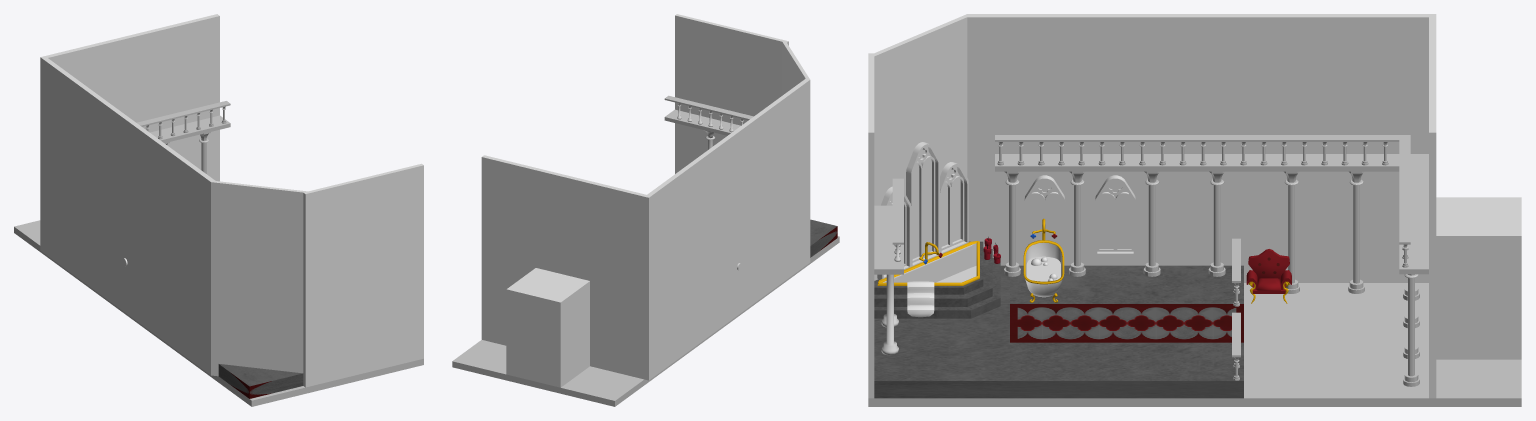
File: BloodBathSetV2.fbx
3 views of the same model, side by side, from view 1: azimuth 30°, elevation 25°; view 2: azimuth 150°, elevation 25°; view 3: azimuth 270°, elevation 25° (orthographic). The views are drawn at different scales.
Parts seen in each view (by area): view 1: Plane, Wood floor, pillars, Stone floor; view 2: Plane, Wood floor, Side pillars, Stone floor; view 3: Plane, Stone floor, Wood floor, pillars, Stone Bath, Cylinder.009, Side pillars, Window, Bath, Chair, Cube.018, Window 2 (+5 smaller).
Boxes of the visible parts, left/top/right/bottom form: Plane: left=40, top=14, right=423, bottom=387; Wood floor: left=14, top=220, right=423, bottom=406; pillars: left=136, top=101, right=230, bottom=173; Stone floor: left=218, top=364, right=303, bottom=398; Plane: left=481, top=14, right=810, bottom=387; Wood floor: left=452, top=236, right=839, bottom=406; Side pillars: left=664, top=95, right=753, bottom=149; Stone floor: left=810, top=219, right=837, bottom=257; Plane: left=868, top=14, right=1521, bottom=398; Stone floor: left=874, top=265, right=1243, bottom=398; Wood floor: left=868, top=283, right=1521, bottom=406; pillars: left=995, top=135, right=1428, bottom=386; Stone Bath: left=874, top=241, right=1000, bottom=318; Cylinder.009: left=877, top=142, right=968, bottom=279; Side pillars: left=874, top=178, right=903, bottom=355; Window: left=1095, top=175, right=1135, bottom=255; Bath: left=1023, top=218, right=1064, bottom=302; Chair: left=1246, top=249, right=1291, bottom=303; Cube.018: left=874, top=241, right=1000, bottom=318; Window 2: left=1024, top=175, right=1065, bottom=255.
Bounding box in the file's own units: 2150 × 2219 × 4791.
